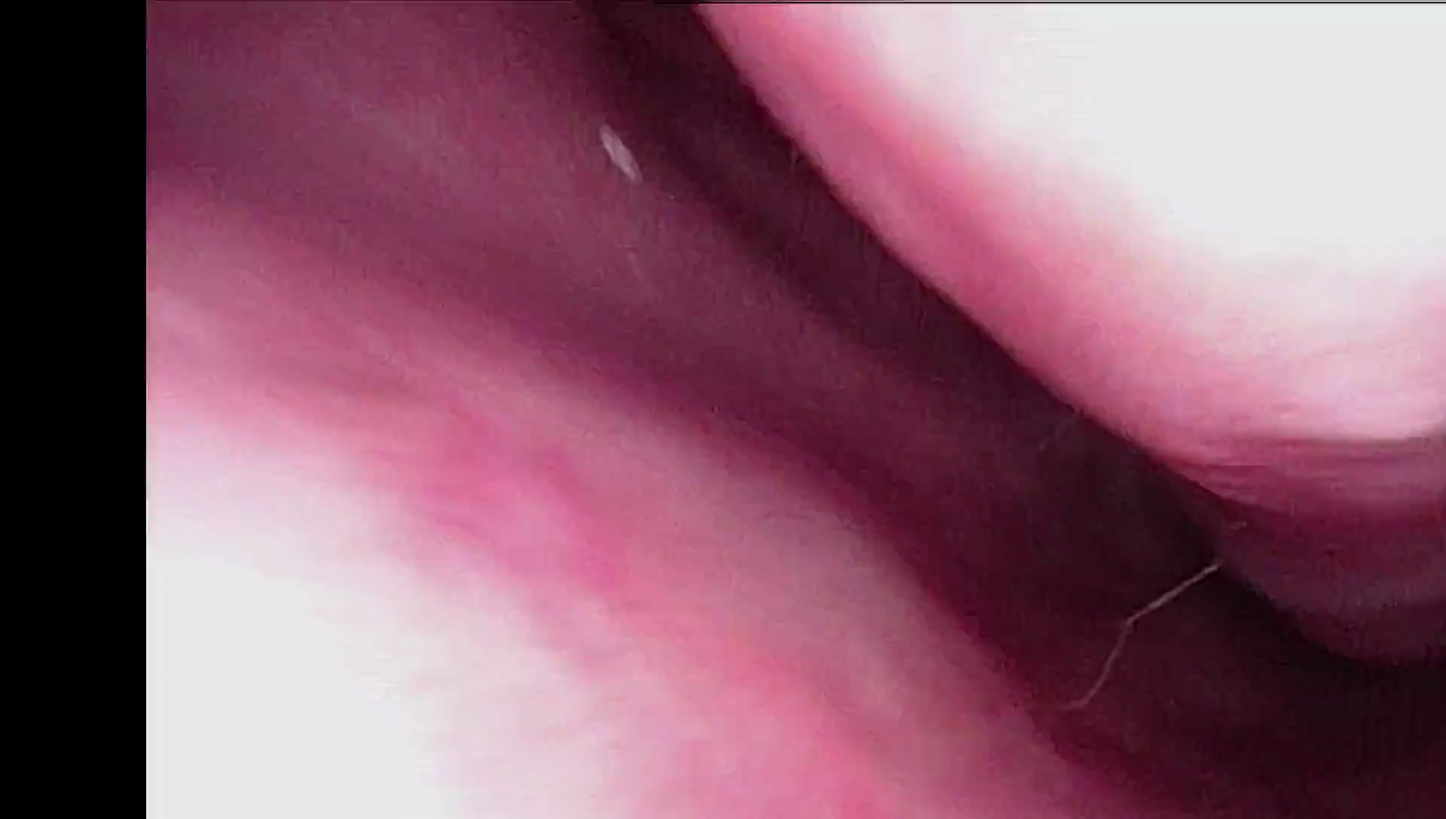close_wall: (148, 404, 711, 819), (862, 0, 1446, 346)
next: (1096, 511, 1446, 819)
